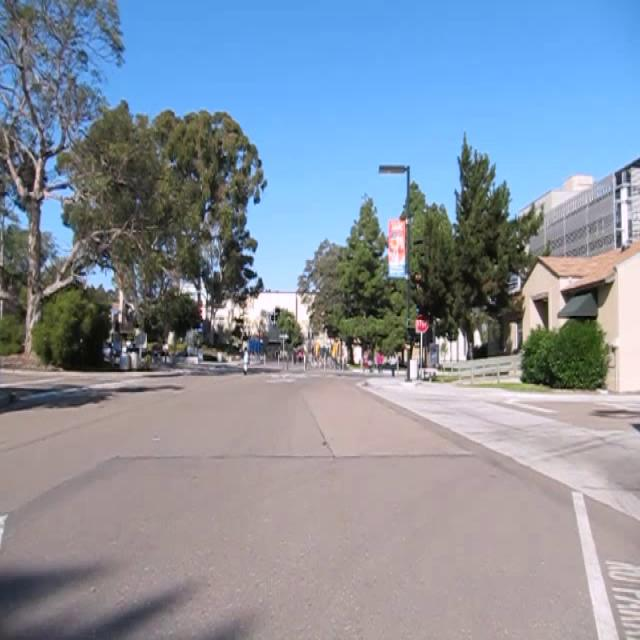stop: (414, 312, 430, 333)
